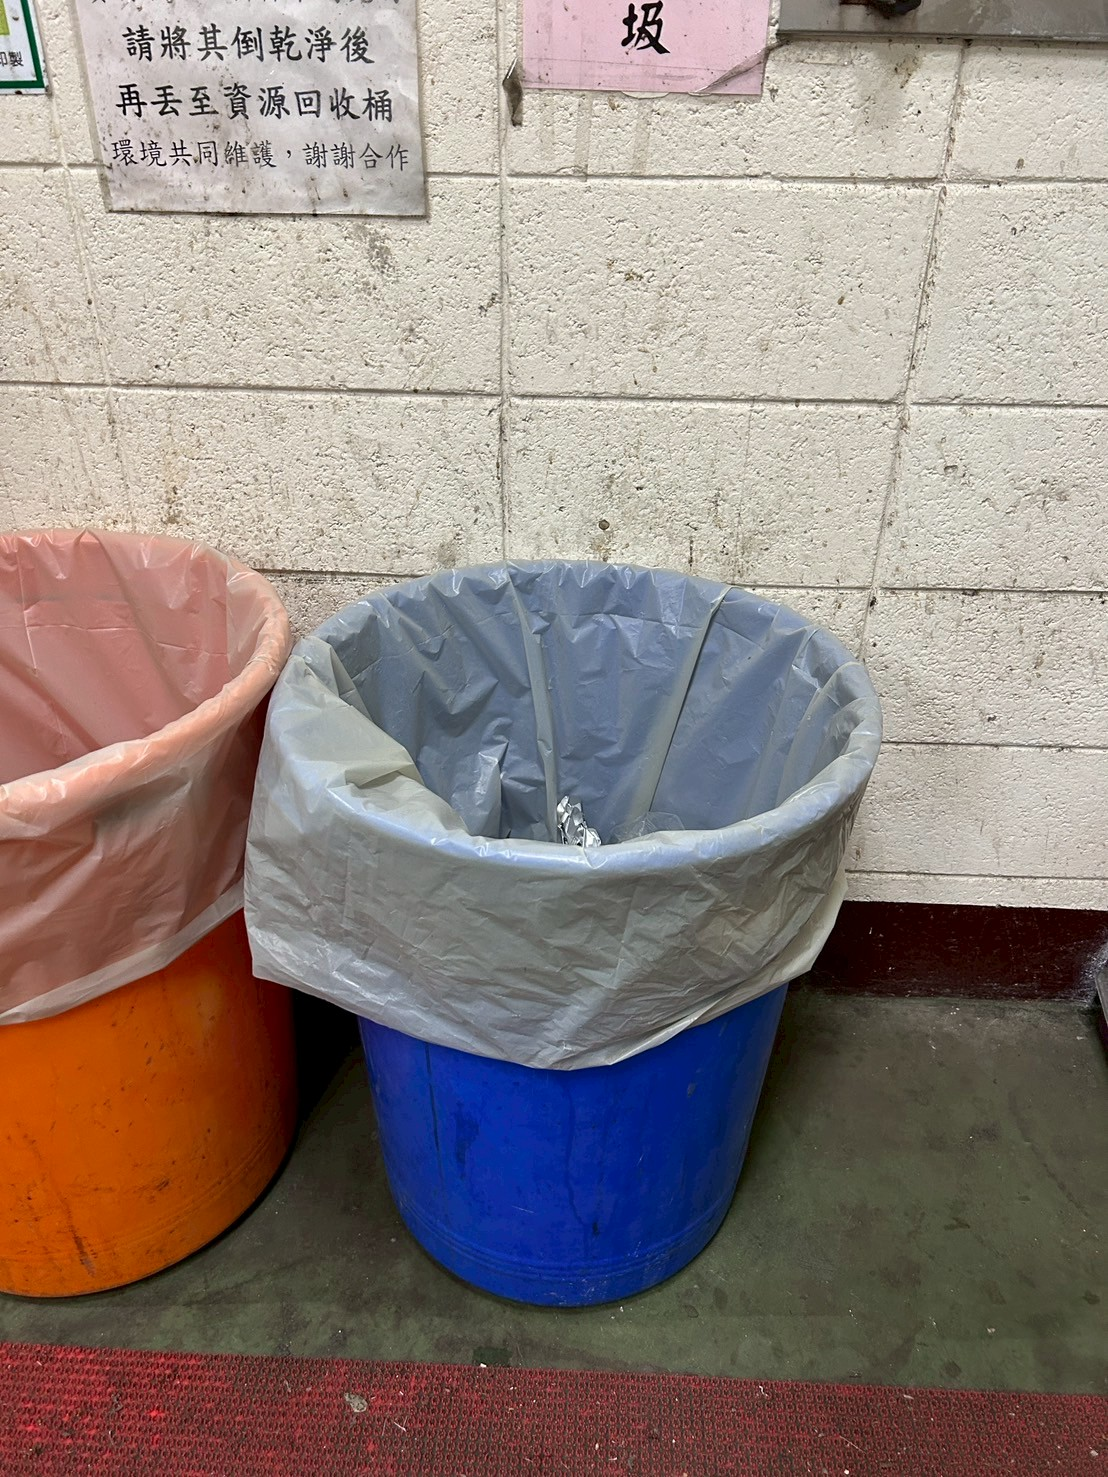normal_bin: (254, 521, 886, 1336)
